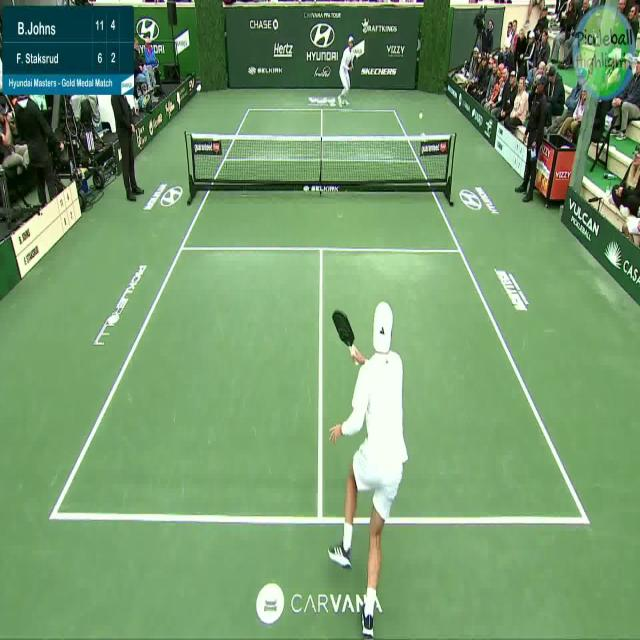ball: (418, 108, 424, 122)
